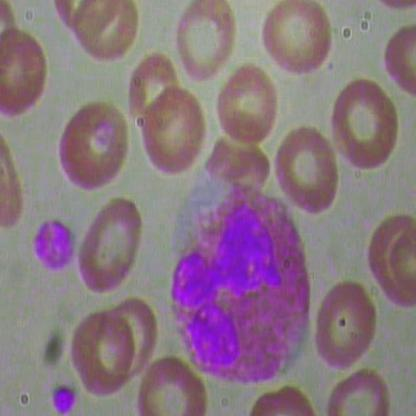Platelets: (23, 215, 78, 278), (47, 383, 80, 415)
RBC: (54, 94, 132, 192), (74, 198, 150, 297), (135, 88, 212, 184), (66, 306, 137, 405), (310, 274, 380, 373), (330, 78, 402, 172), (272, 127, 344, 221), (260, 1, 332, 86), (214, 65, 281, 150), (172, 1, 236, 85), (0, 21, 50, 120), (74, 1, 144, 69), (379, 18, 415, 108)
WBC: (165, 183, 321, 386)
